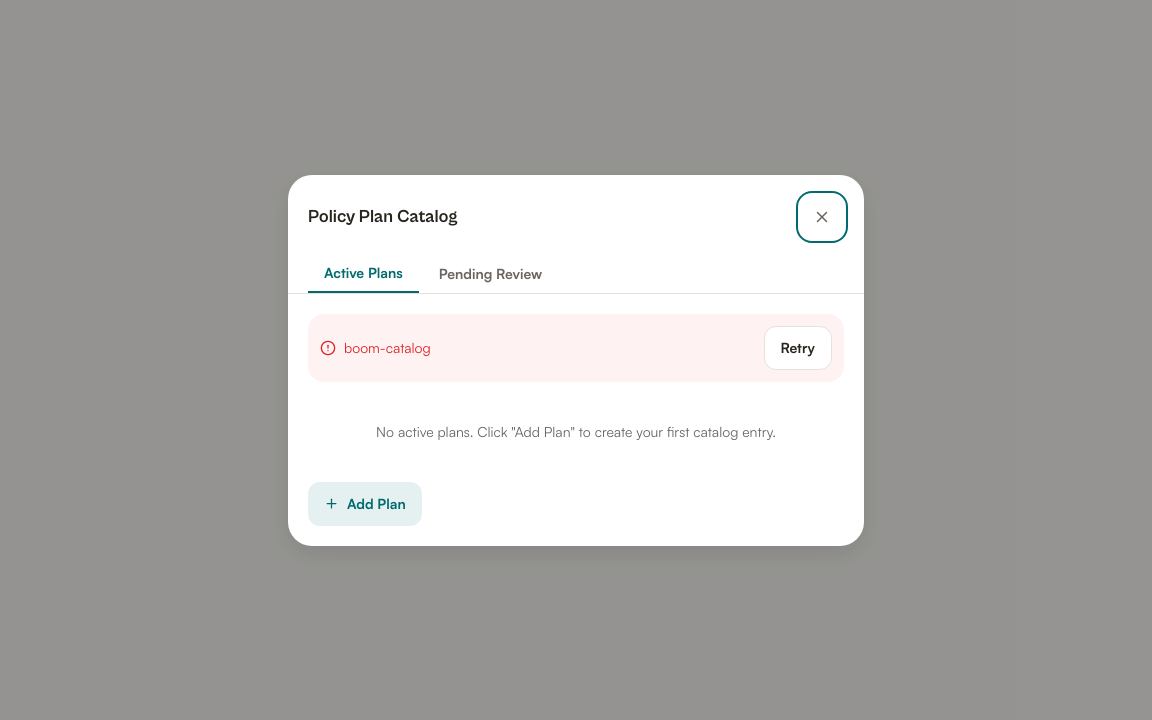
Test: §1 states contract (error / retry) › renders a persistent inline error card with a wired Retry when the load fails
Expected: the message shows "boom-catalog", [344,338,431,356]
Step 1. Click the button "Retry" → (798, 348), box [764,326,832,370]
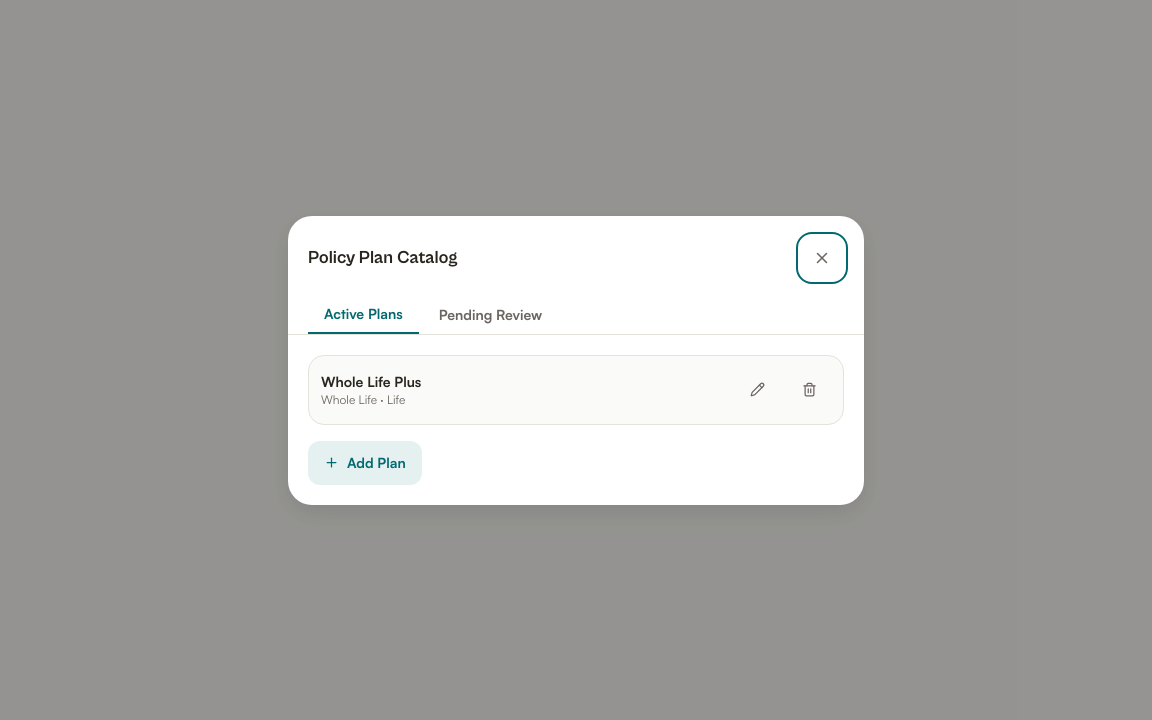
Expected: the text "boom-catalog" is gone
Expected: the text "Whole Life Plus" is shown, [321,372,421,392]
